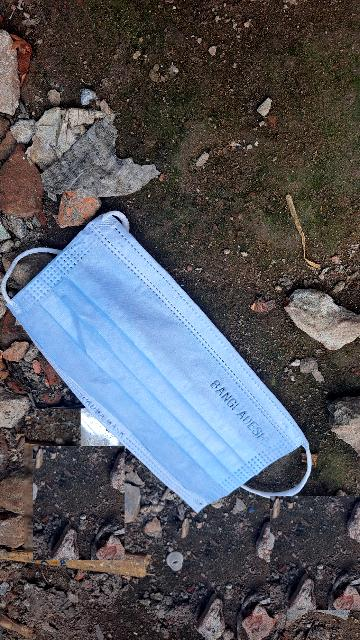mask: (0, 200, 327, 553)
